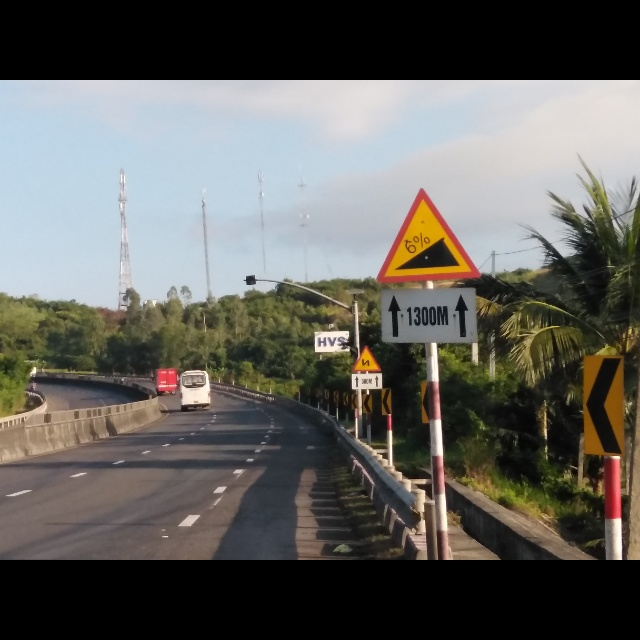Dốc lên nguy hiểm: (377, 186, 479, 283)
Ngoặt nguy hiểm liên tiếp bên phải: (350, 342, 385, 374)
